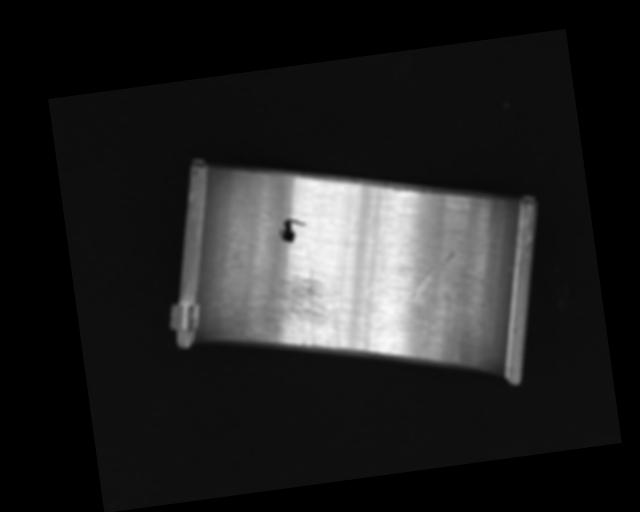blot: (277, 215, 308, 244)
nick: (348, 185, 403, 299), (463, 197, 514, 282), (408, 251, 459, 299), (409, 288, 429, 347)
scratch: (226, 266, 350, 360)
